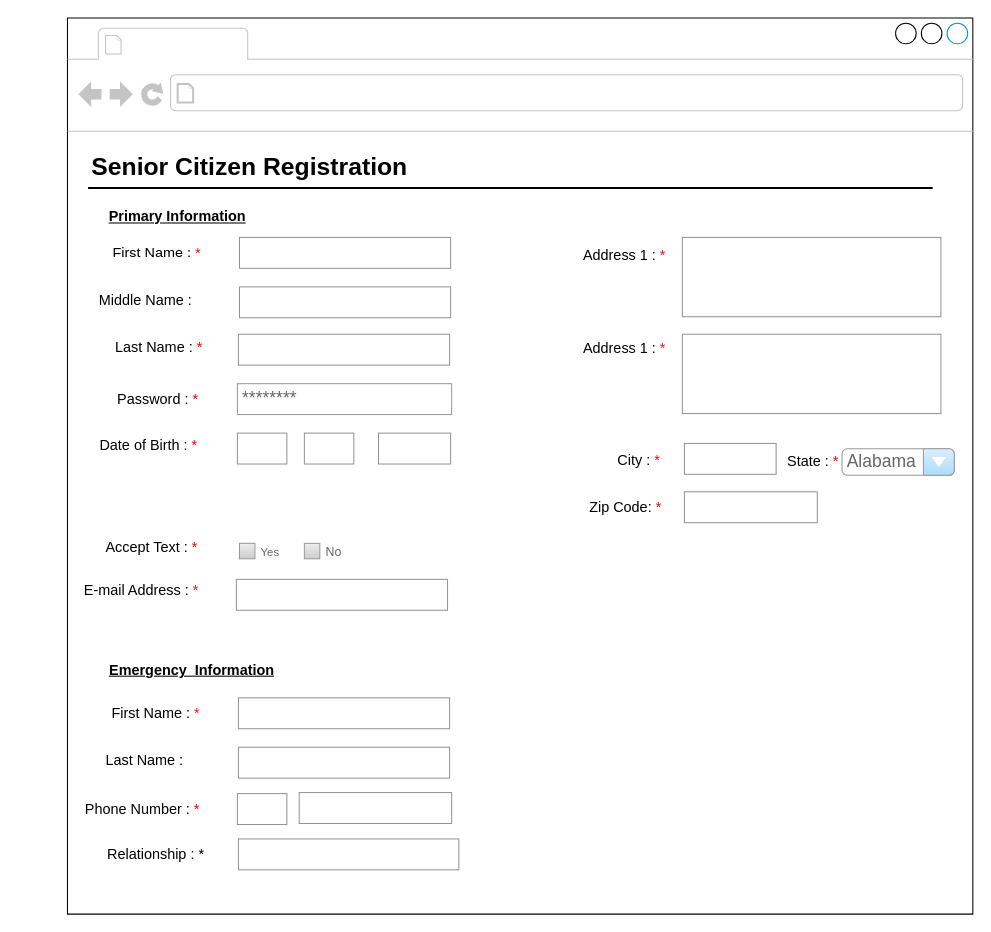
Image size: 991x932. Some labels were removed from this diagram. Here are the shapes that lost their labels. From the top down, the box of each, then its label:
(128, 29, 243, 57): Page 1
(200, 79, 459, 107): https://www.xyz.org
